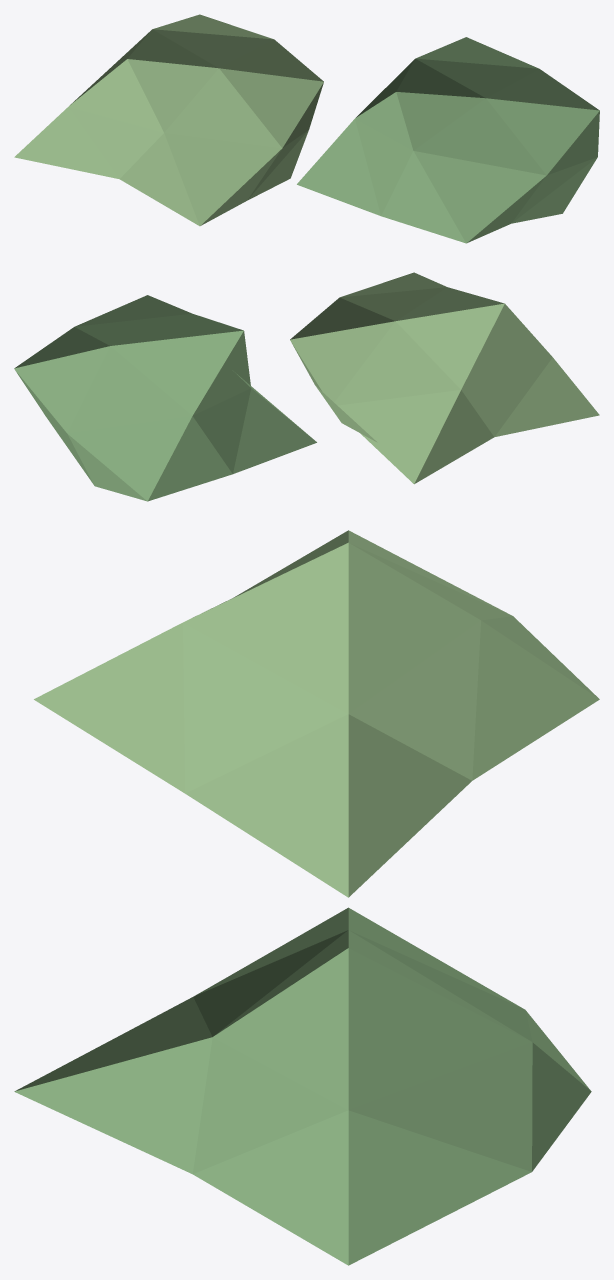
The model's file is shrub_v21.glb.
3 renders of one model, top to bottom at view 1: azimuth 30°, elevation 25°; view 2: azimuth 150°, elevation 25°; view 3: azimuth 270°, elevation 25°, orthographic. The views are drawn at different scales.
Parts seen in each view (by area): view 1: lod0; view 2: lod0; view 3: lod0.
Boxes of the visible parts, x1,y1,x2,y2 form: lod0: (14,14,599,243); lod0: (14,272,599,501); lod0: (14,530,599,1265).
Size of what is drawn, in the model's own units: 1.28 by 0.6118 by 0.6371.
